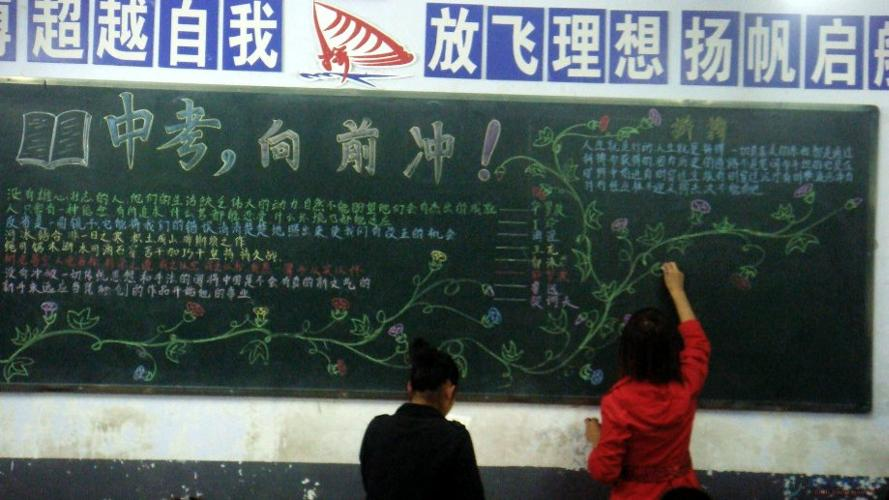person: (585, 260, 712, 500)
